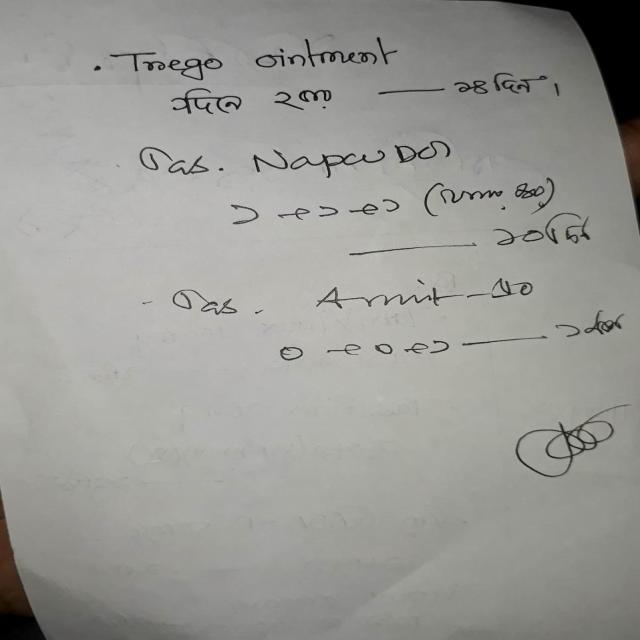Amit: (309, 279, 454, 316)
Napadol: (245, 140, 458, 174)
Trego: (119, 34, 401, 83)
